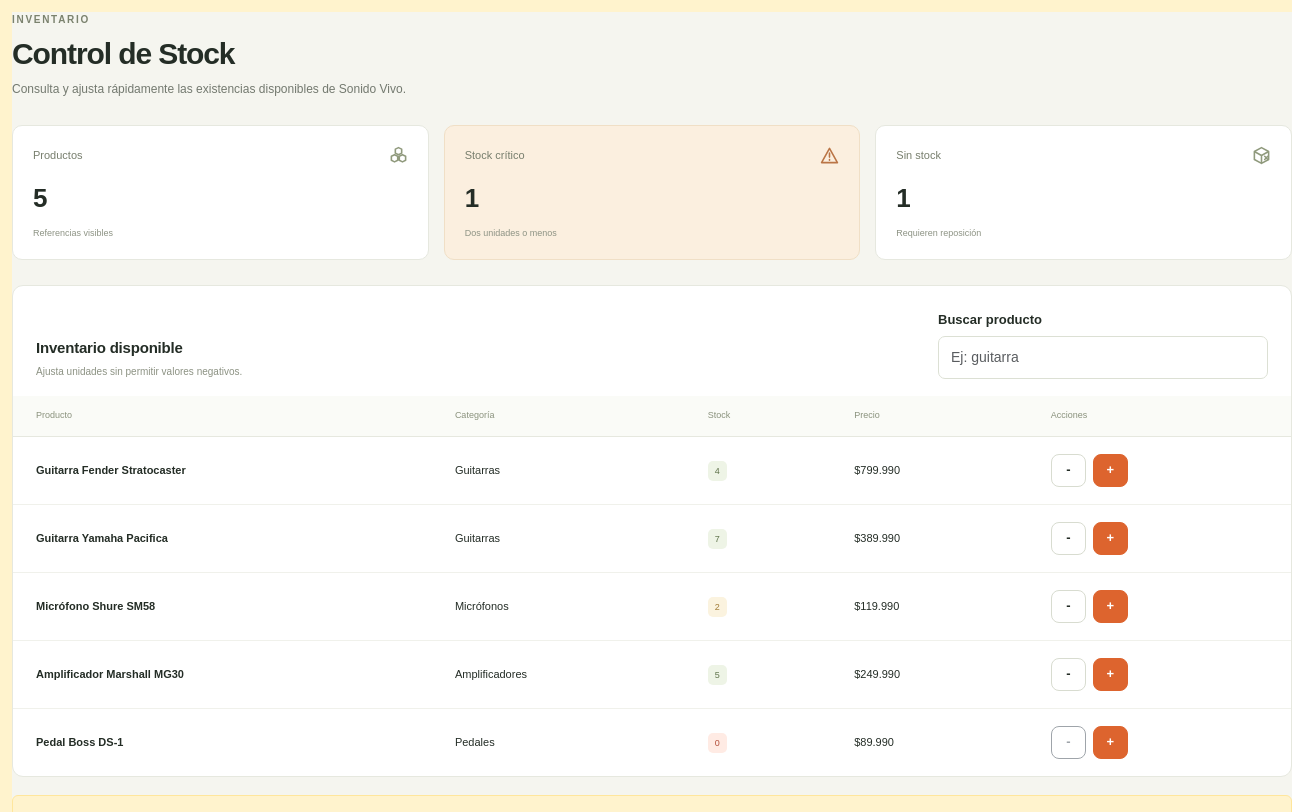
Test: ControlStockPage integrado › permite aumentar el stock
Click the button named "aumentar stock de guitarra fender".
click(1110, 470)  # box [1093, 454, 1128, 487]
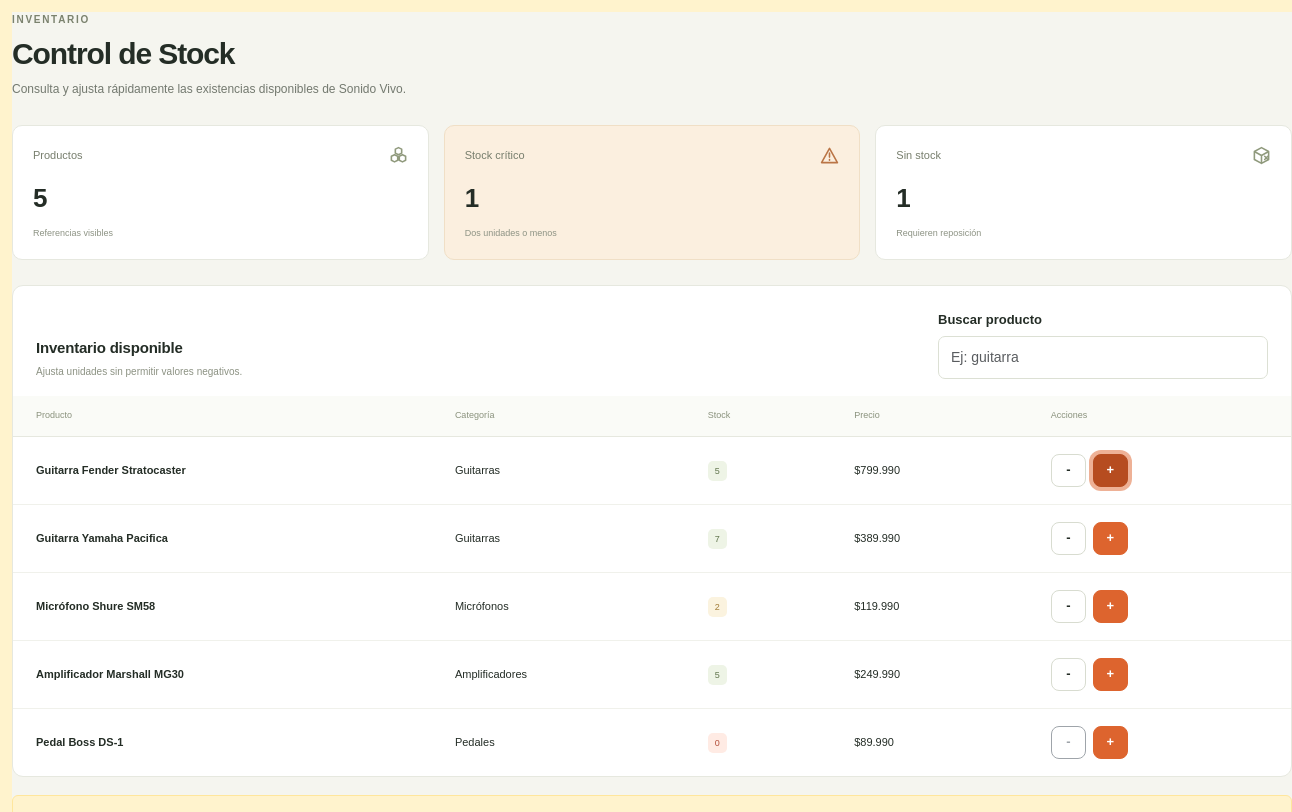
Expected: the text "Guitarra Fender Stratocaster" shows "5", [715, 466, 720, 476]
